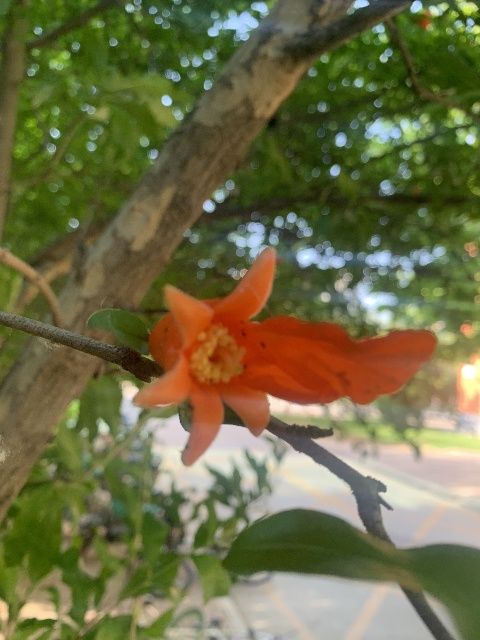flower: (134, 246, 434, 467)
